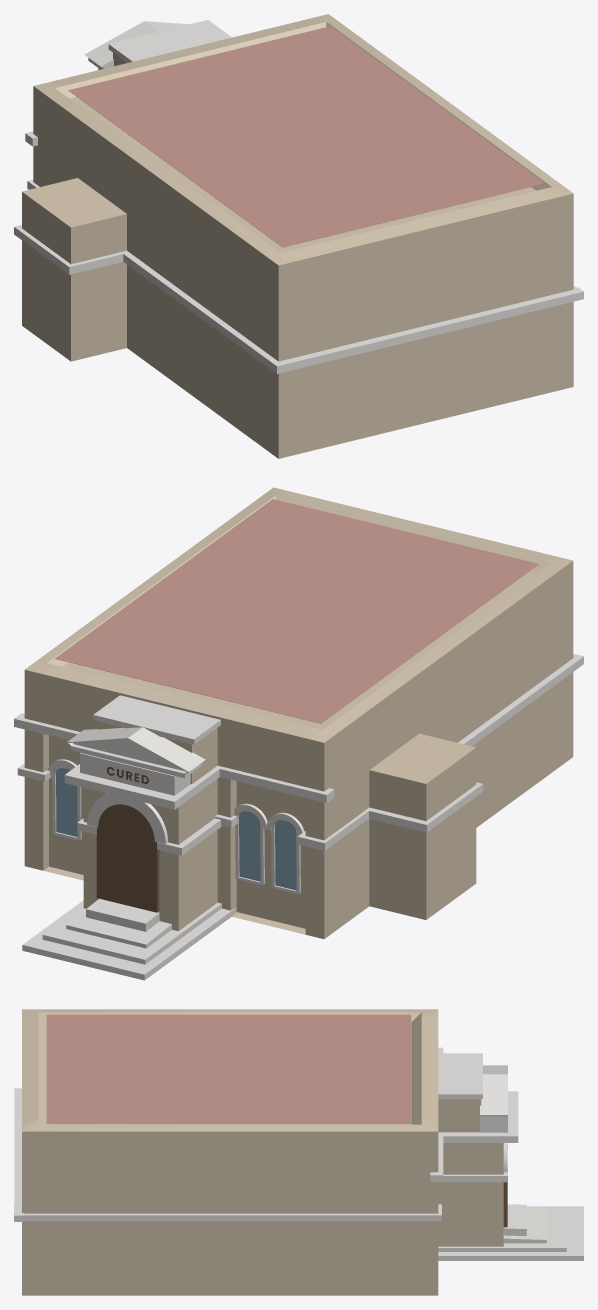
File: pearl_cured.glb
3 views of the same model, one above another, from view 1: azimuth 30°, elevation 25°; view 2: azimuth 150°, elevation 25°; view 3: azimuth 270°, elevation 25° (orthographic). The views are drawn at different scales.
Visible parts, largest first — view 1: Merged Geometry, Rectangle, Cube 11, Cube, Cube 10, Cube 9, Cube 3; view 2: Merged Geometry, Rectangle, Merged Geometry 2, Rectangle 14 (×3), Cube 3, Cube 12, Cube, Cube 13, Cube 4, Cube 6 (×2), Cube 2, Rectangle 16 (×3) (+7 smaller); view 3: Merged Geometry, Rectangle, Cube 4 (×2), Cube 12, Cube, Cube 13, Cube 3, Cube 11, Cube 14, Cube 15, Cube 5, Cube 2.
Boxes of the visible parts, bbox=[...] form: Merged Geometry: bbox=[22, 14, 573, 458]; Rectangle: bbox=[68, 26, 544, 247]; Cube 11: bbox=[272, 287, 583, 373]; Cube: bbox=[108, 20, 231, 62]; Cube 10: bbox=[121, 250, 283, 372]; Cube 9: bbox=[14, 225, 123, 274]; Cube 3: bbox=[84, 21, 188, 69]; Merged Geometry: bbox=[24, 487, 573, 939]; Rectangle: bbox=[55, 499, 538, 723]; Merged Geometry 2: bbox=[96, 804, 159, 912]; Rectangle 14 (×3): bbox=[56, 768, 296, 890]; Cube 3: bbox=[67, 727, 205, 778]; Cube 12: bbox=[22, 900, 236, 980]; Cube: bbox=[93, 695, 220, 744]; Cube 13: bbox=[42, 902, 221, 964]; Cube 4: bbox=[64, 764, 219, 809]; Cube 6 (×2): bbox=[157, 766, 334, 855]; Cube 2: bbox=[80, 753, 190, 795]; Rectangle 16 (×3): bbox=[52, 766, 300, 894]; Merged Geometry: bbox=[22, 1009, 503, 1295]; Rectangle: bbox=[46, 1014, 411, 1123]; Cube 4 (×2): bbox=[14, 1091, 518, 1221]; Cube 12: bbox=[438, 1206, 583, 1260]; Cube: bbox=[438, 1053, 482, 1098]; Cube 13: bbox=[438, 1206, 566, 1251]; Cube 3: bbox=[480, 1065, 507, 1119]; Cube 11: bbox=[14, 1088, 24, 1221]; Cube 14: bbox=[503, 1206, 546, 1243]; Cube 15: bbox=[503, 1204, 526, 1235]; Cube 5: bbox=[438, 1168, 507, 1182]; Cube 2: bbox=[480, 1119, 507, 1132].
Size of the model in its own units: 17.09 by 8.83 by 27.38.
